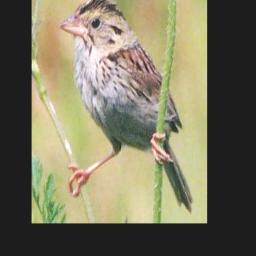Sparrow: (59, 0, 195, 215)
